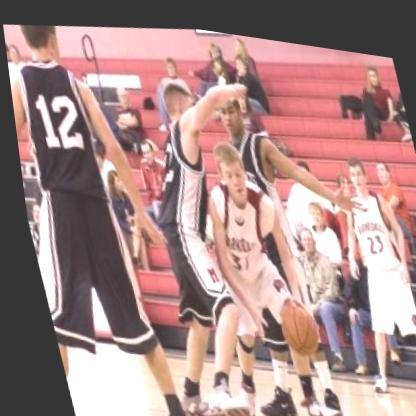basketball: (263, 288, 320, 356)
